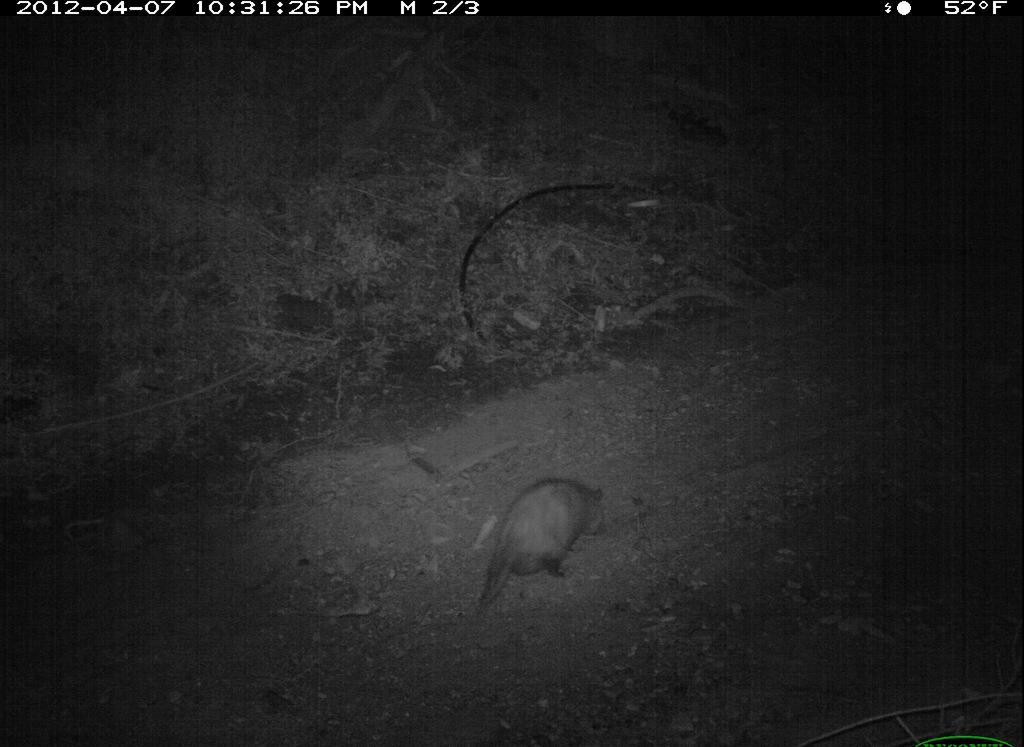opossum: (464, 474, 616, 632)
